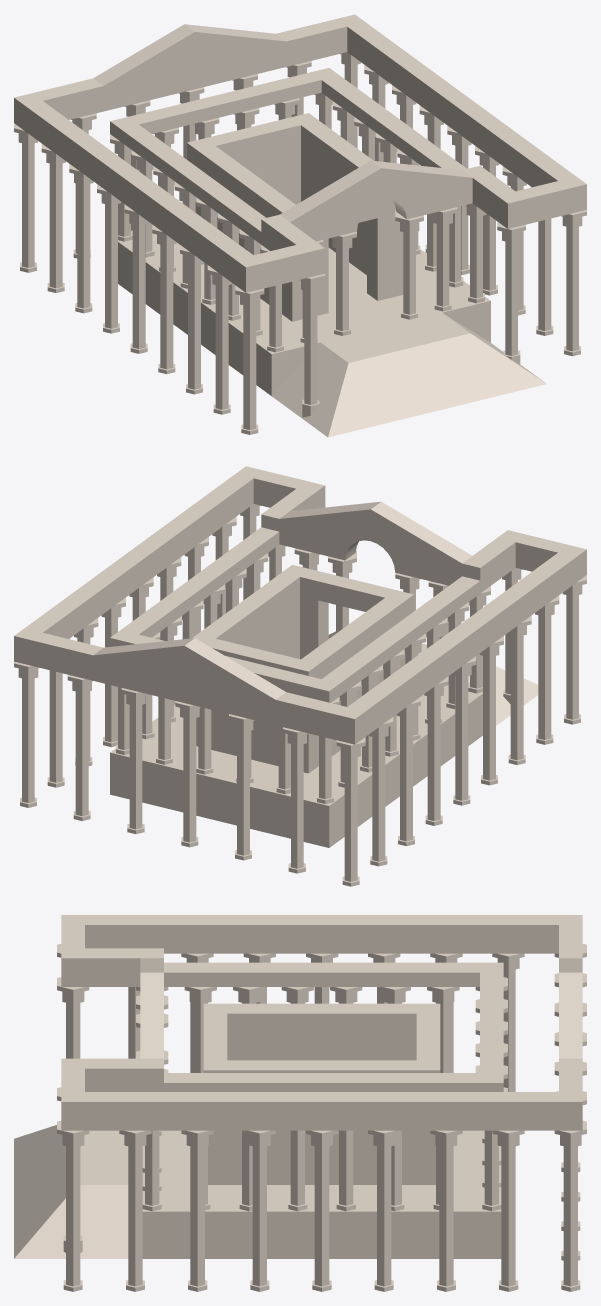
Rendered from HATTAR TEMPLE.glb.
3 renders of one model, top to bottom at view 1: azimuth 30°, elevation 25°; view 2: azimuth 150°, elevation 25°; view 3: azimuth 270°, elevation 25°, orthographic. The views are drawn at different scales.
Parts seen in each view (by area): view 1: Geom3D; view 2: Geom3D; view 3: Geom3D.
Part boxes in pixels (left/top/right/bottom): Geom3D: left=14, top=14, right=586, bottom=437; Geom3D: left=14, top=466, right=586, bottom=886; Geom3D: left=14, top=915, right=586, bottom=1291.
Bounding box in the file's own units: 2.89 × 1.58 × 3.63.
